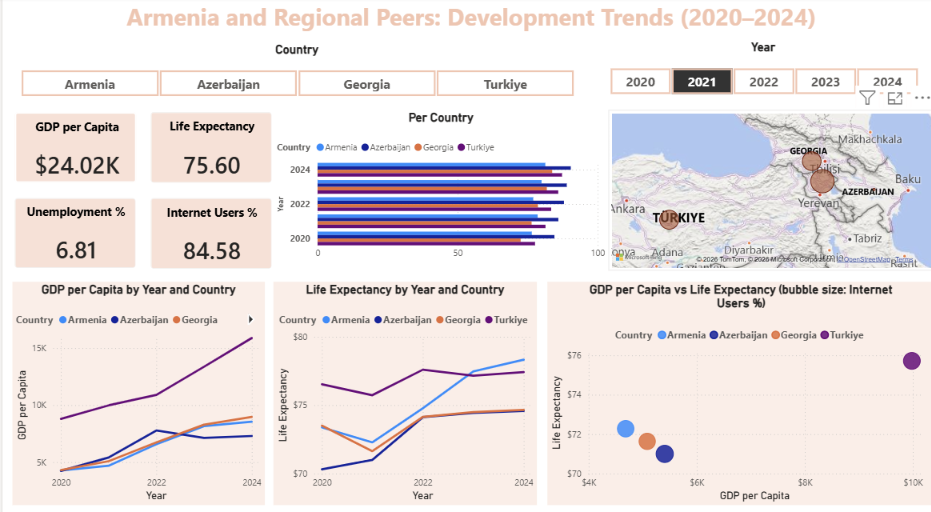

The page's visual inventory and layout, read from the dashboard file:
{"tool":"powerbi","page":{"name":"Page 1","canvas":[1280,720],"ordinal":0},"visuals":[{"type":"slicer","title":"Country","fields":{"Values":["World Bank Country Year.country"]},"box":[0,61.7,808.3,80],"z":0},{"type":"slicer","title":"Year","fields":{"Values":["World Bank Country Year.year"]},"box":[808.3,58.3,471.7,80],"z":1000},{"type":"cardVisual","fields":{"Data":["Key Measure.GDP per Capita"]},"box":[0,141.7,201.7,131.7],"z":2000},{"type":"cardVisual","fields":{"Data":["Key Measure.Life Expectancy"]},"box":[186.7,141.7,200,131.7],"z":3000},{"type":"cardVisual","fields":{"Data":["Key Measure.Unemployment %"]},"box":[0,260,200,130],"z":4000},{"type":"cardVisual","fields":{"Data":["Key Measure.Internet Users %"]},"box":[186.7,260,200,131.7],"z":5000},{"type":"lineChart","fields":{"Y":["Key Measure.GDP per Capita"],"Category":["World Bank Country Year.year"],"Series":["World Bank Country Year.country"]},"box":[13.3,391.7,346.7,306.7],"z":6000},{"type":"lineChart","fields":{"Category":["World Bank Country Year.year"],"Y":["Key Measure.Life Expectancy"],"Series":["World Bank Country Year.country"]},"box":[371.7,391.7,361.7,306.7],"z":7000},{"type":"scatterChart","title":"GDP per Capita vs Life Expectancy (bubble size: Internet Users %)","fields":{"X":["Key Measure.GDP per Capita"],"Y":["Key Measure.Life Expectancy"],"Size":["Key Measure.Internet Users %"],"Series":["World Bank Country Year.country"]},"box":[748.3,391.7,531.7,306.7],"z":8000},{"type":"map","fields":{"Category":["World Bank Country Year.country"],"Size":["Key Measure.Unemployment %"]},"box":[831.7,155,448.3,221.7],"z":9000},{"type":"clusteredBarChart","title":"Per Country","fields":{"Y":["Key Measure.Internet Users %"],"Category":["World Bank Country Year.year"],"Series":["World Bank Country Year.country"]},"box":[371.7,155,460,215],"z":10000},{"type":"textbox","box":[26.7,0,1235,58.3],"z":10001}]}

Visuals, with their boxes in screenshot pixels (x1, y1, x2, y2), scaled from the page's 1280x720 canvas onto the 931x512 screenshot:
"Country" slicer: bbox(0, 44, 588, 101)
"Year" slicer: bbox(588, 41, 930, 98)
cardVisual - Key Measure.GDP per Capita: bbox(0, 101, 147, 194)
cardVisual - Key Measure.Life Expectancy: bbox(136, 101, 281, 194)
cardVisual - Key Measure.Unemployment %: bbox(0, 185, 145, 277)
cardVisual - Key Measure.Internet Users %: bbox(136, 185, 281, 279)
lineChart - Key Measure.GDP per Capita x World Bank Country Year.year: bbox(10, 279, 262, 497)
lineChart - World Bank Country Year.year x Key Measure.Life Expectancy: bbox(270, 279, 533, 497)
"GDP per Capita vs Life Expectancy (bubble size: Internet Users %)" scatterChart: bbox(544, 279, 930, 497)
map - World Bank Country Year.country x Key Measure.Unemployment %: bbox(605, 110, 930, 268)
"Per Country" clusteredBarChart: bbox(270, 110, 605, 263)
textbox: bbox(19, 0, 918, 41)
